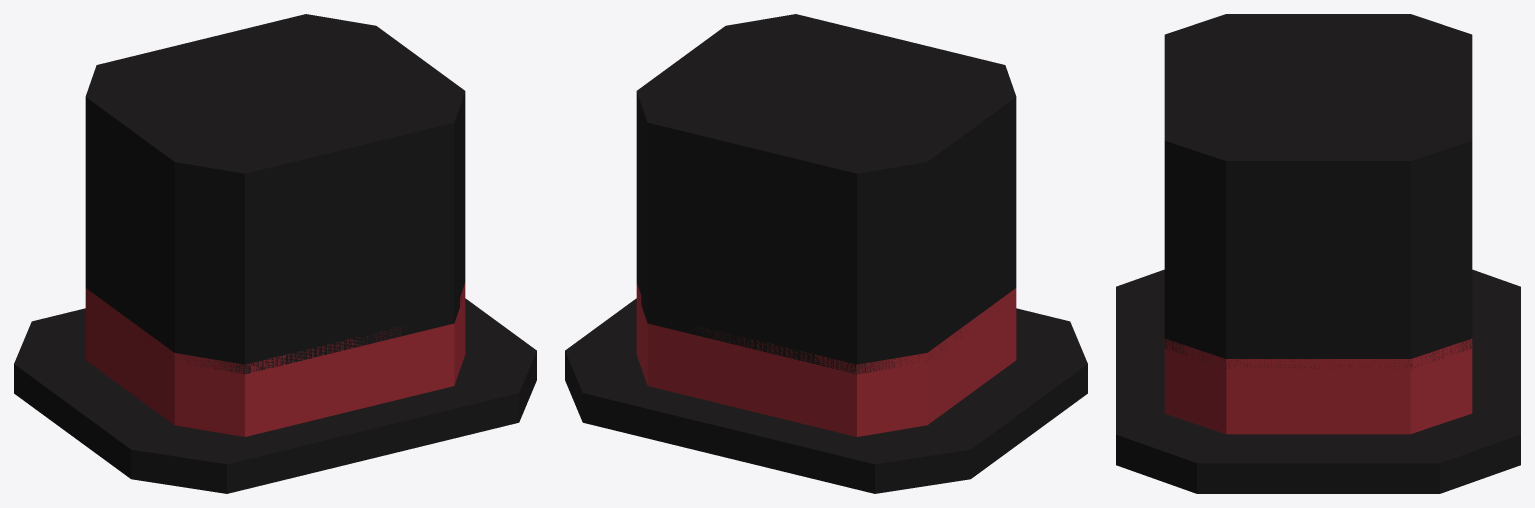
Rendered from tophat.glb.
The picture shows the model from 3 angles, left to right: view 1: azimuth 30°, elevation 25°; view 2: azimuth 150°, elevation 25°; view 3: azimuth 270°, elevation 25°; orthographic projection. The views are drawn at different scales.
Parts seen in each view (by area): view 1: Top Hat.002; view 2: Top Hat.002; view 3: Top Hat.002.
Part boxes in pixels (x1,y1,x2,y2): Top Hat.002: [14, 14, 536, 493]; Top Hat.002: [565, 14, 1087, 493]; Top Hat.002: [1116, 14, 1520, 493].
Size of the model in its own units: 0.774 by 0.534 by 0.645.
